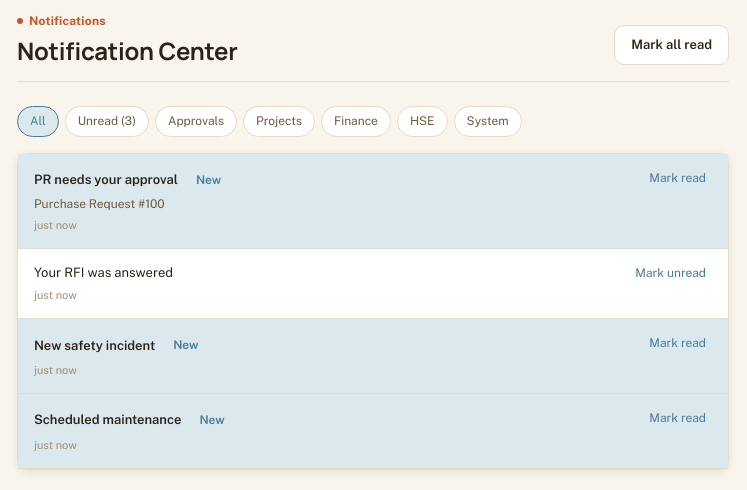
Test: NotificationCenterPage › filters to only real unread notifications, with a real live count in the tab
The width and height of the screenshot is (747, 490).
Expected: the text "PR needs your approval" is shown, [34,170,178,190]
Step 1. Click the tab "Unread (3)" → (107, 122), box [65,106,149,137]
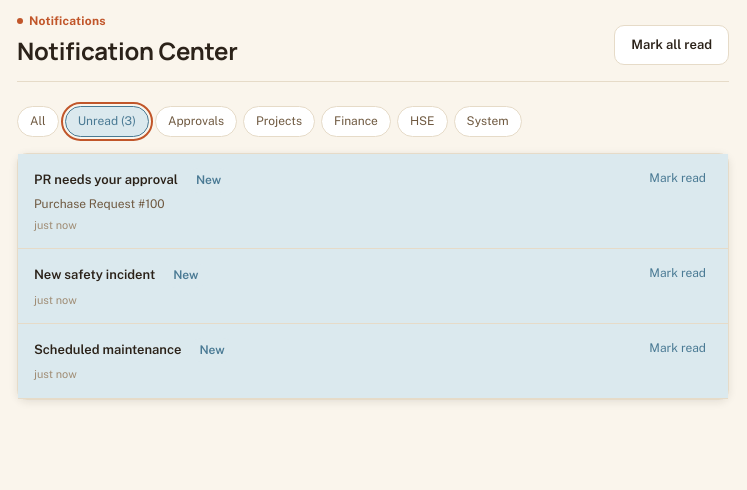
Expected: the text "PR needs your approval" is shown, [34,170,178,190]
Expected: the text "Your RFI was answered" is gone
